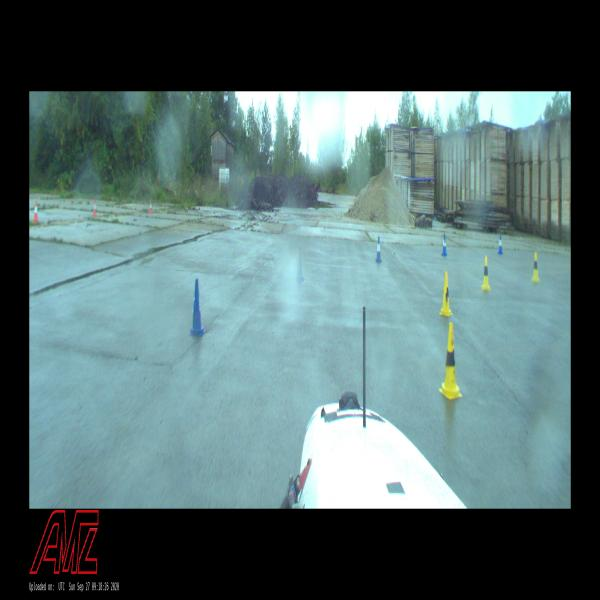blue_cone: (190, 280, 205, 338), (297, 246, 304, 282), (376, 237, 382, 263), (442, 234, 447, 255), (498, 234, 503, 254)
orange_cone: (34, 200, 38, 222), (92, 199, 96, 216), (149, 199, 153, 214)
yellow_cone: (439, 323, 462, 399), (439, 271, 453, 317), (482, 256, 490, 290), (532, 251, 539, 282)
